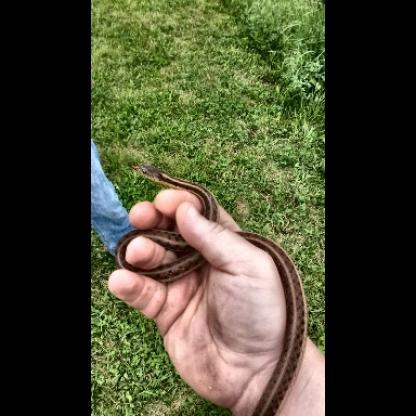Snake: (113, 162, 322, 415)
